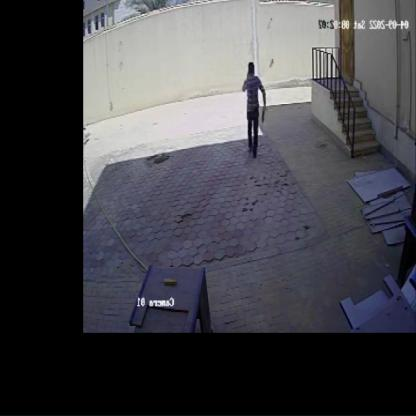handgun: (260, 96, 270, 130)
